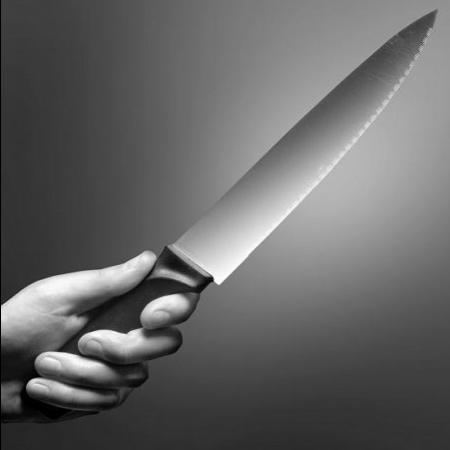long weapon: (16, 3, 444, 420)
